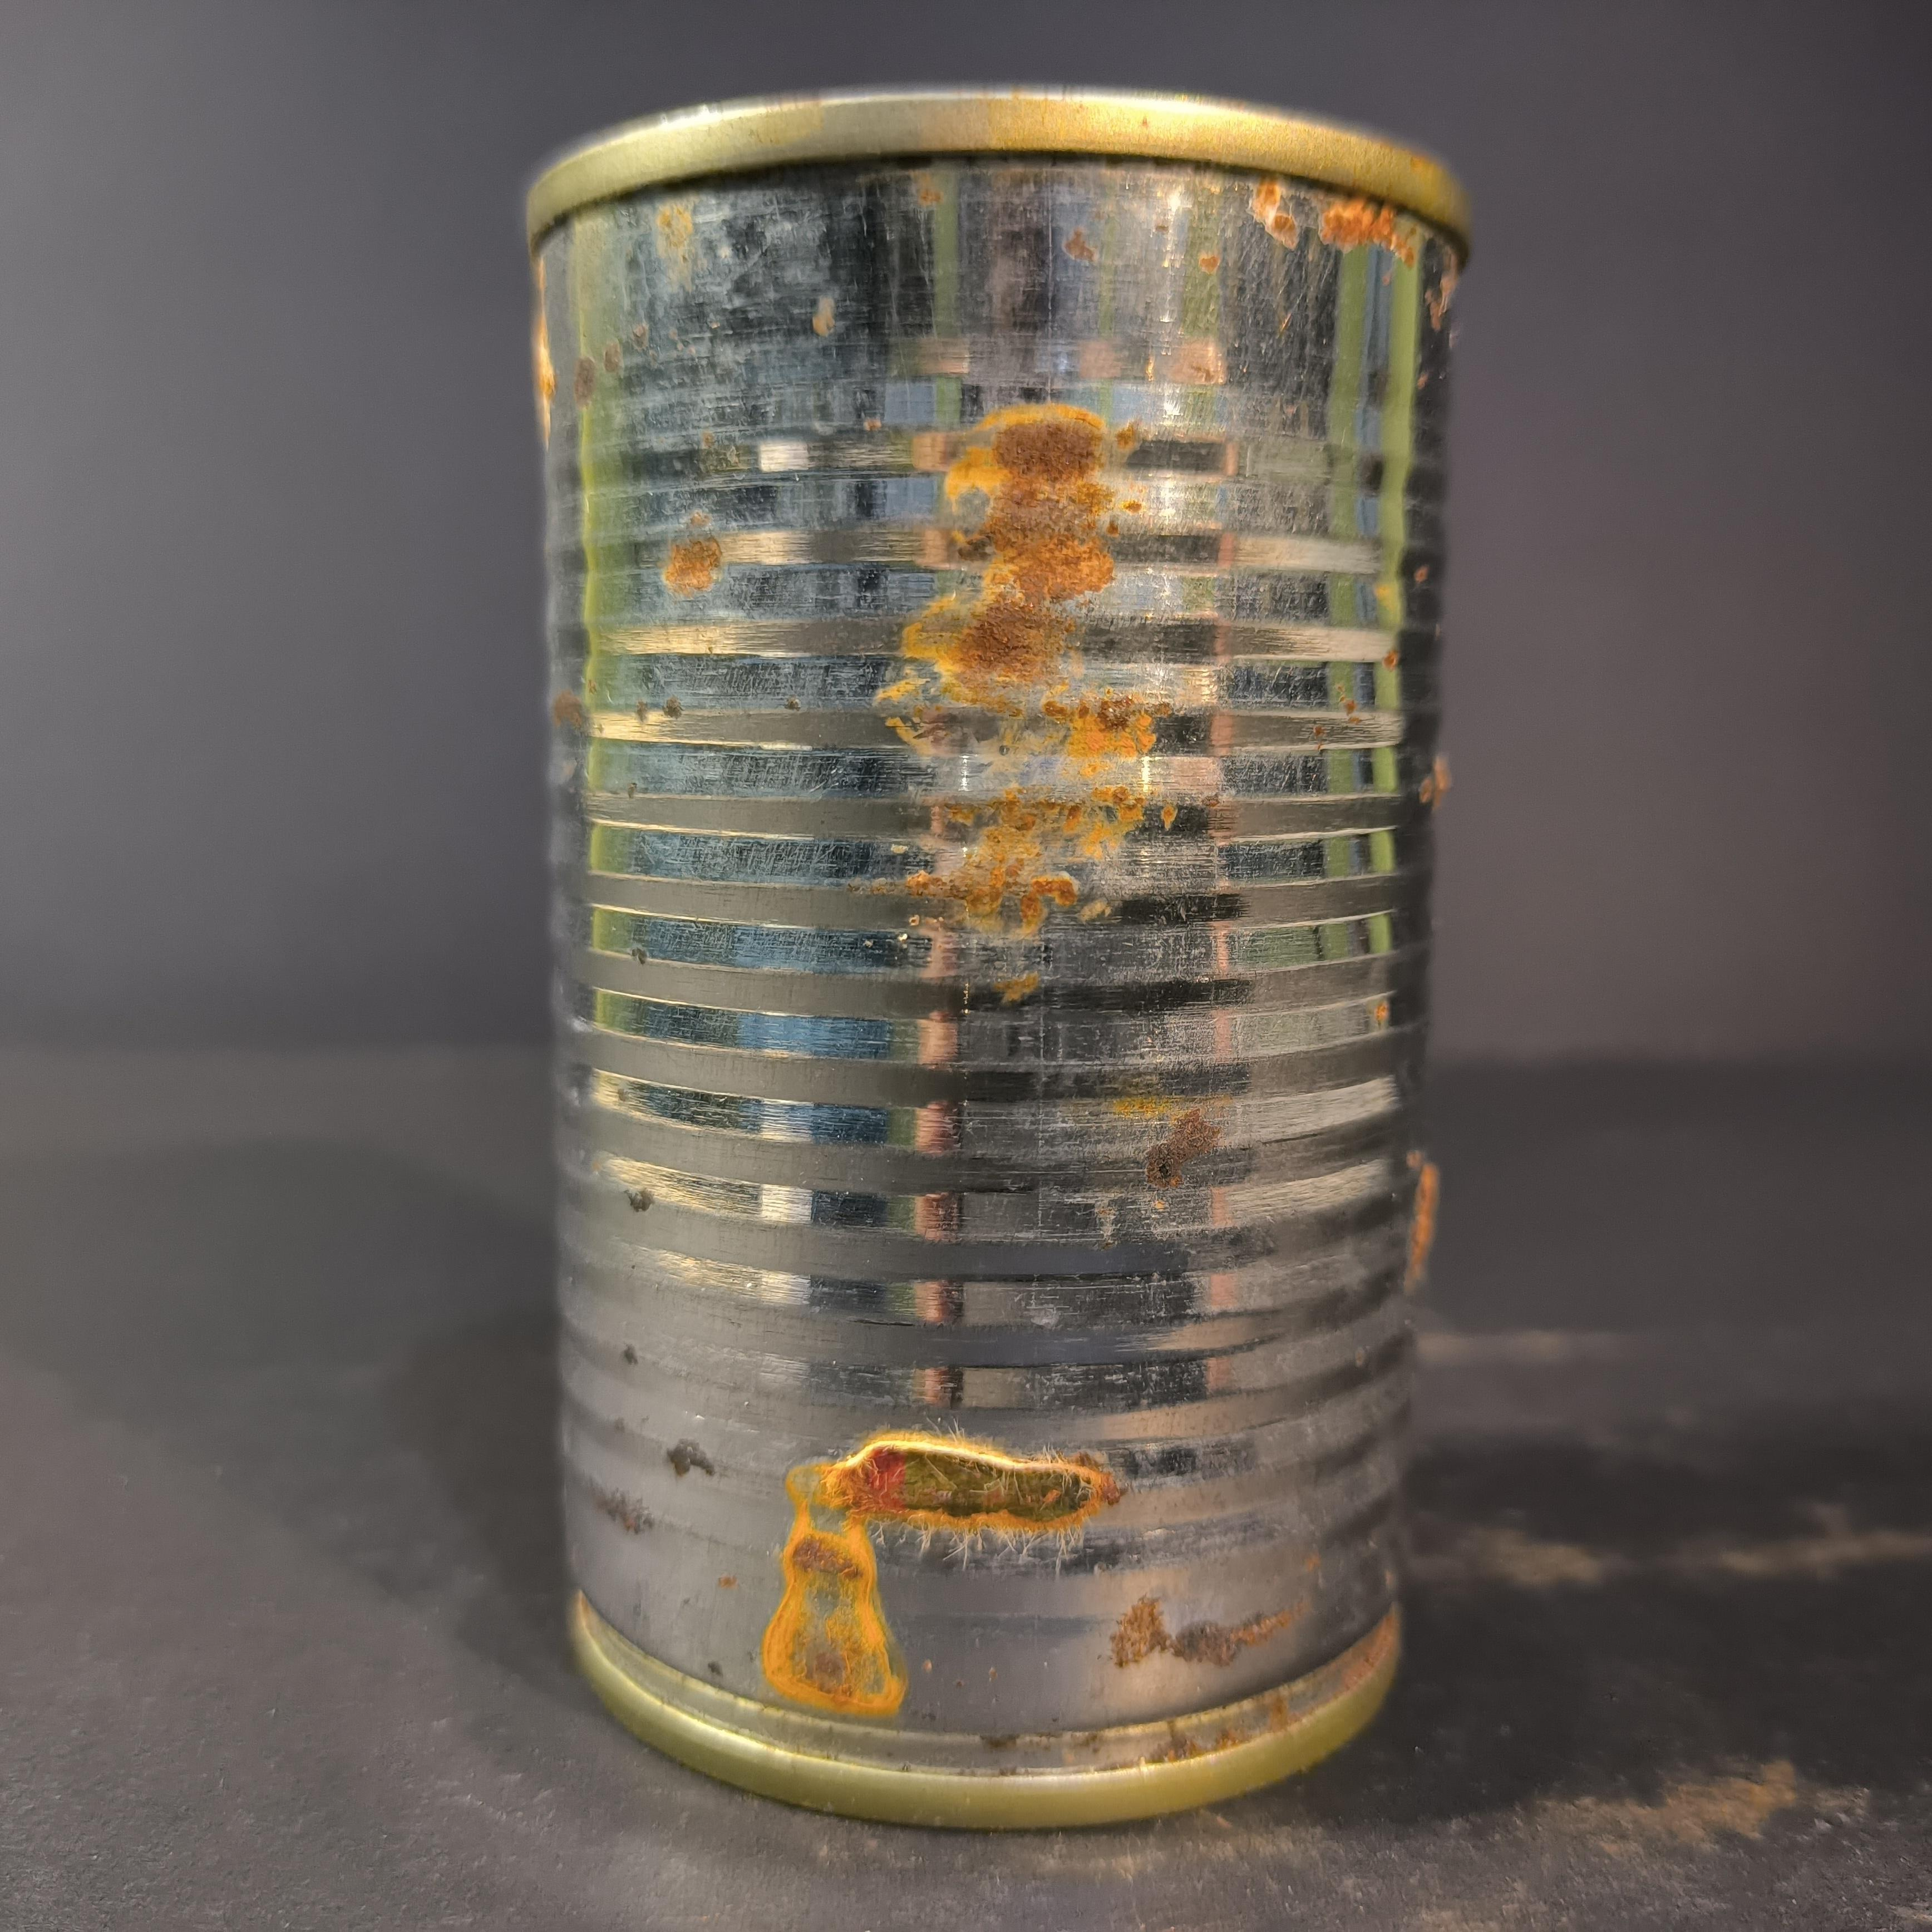Rusted: (501, 64, 1461, 1851)
